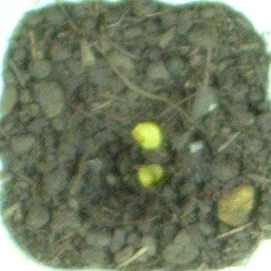pepper seed: (55, 68, 220, 257), (47, 45, 212, 196)
